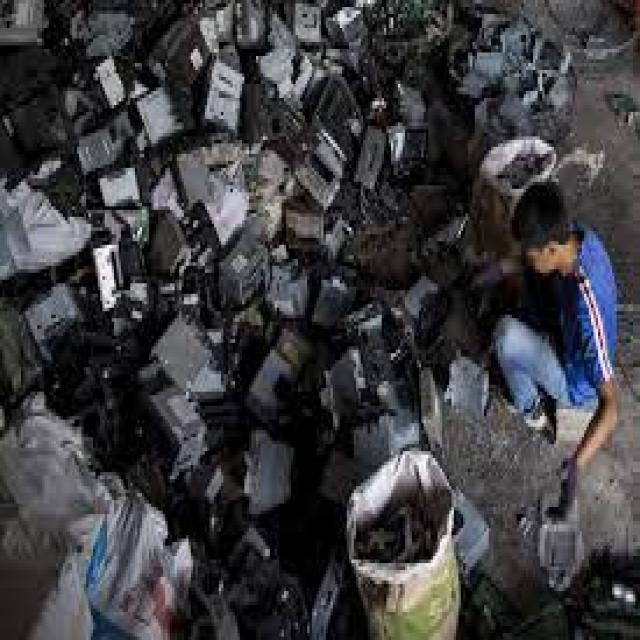hazard: (5, 2, 562, 640)
